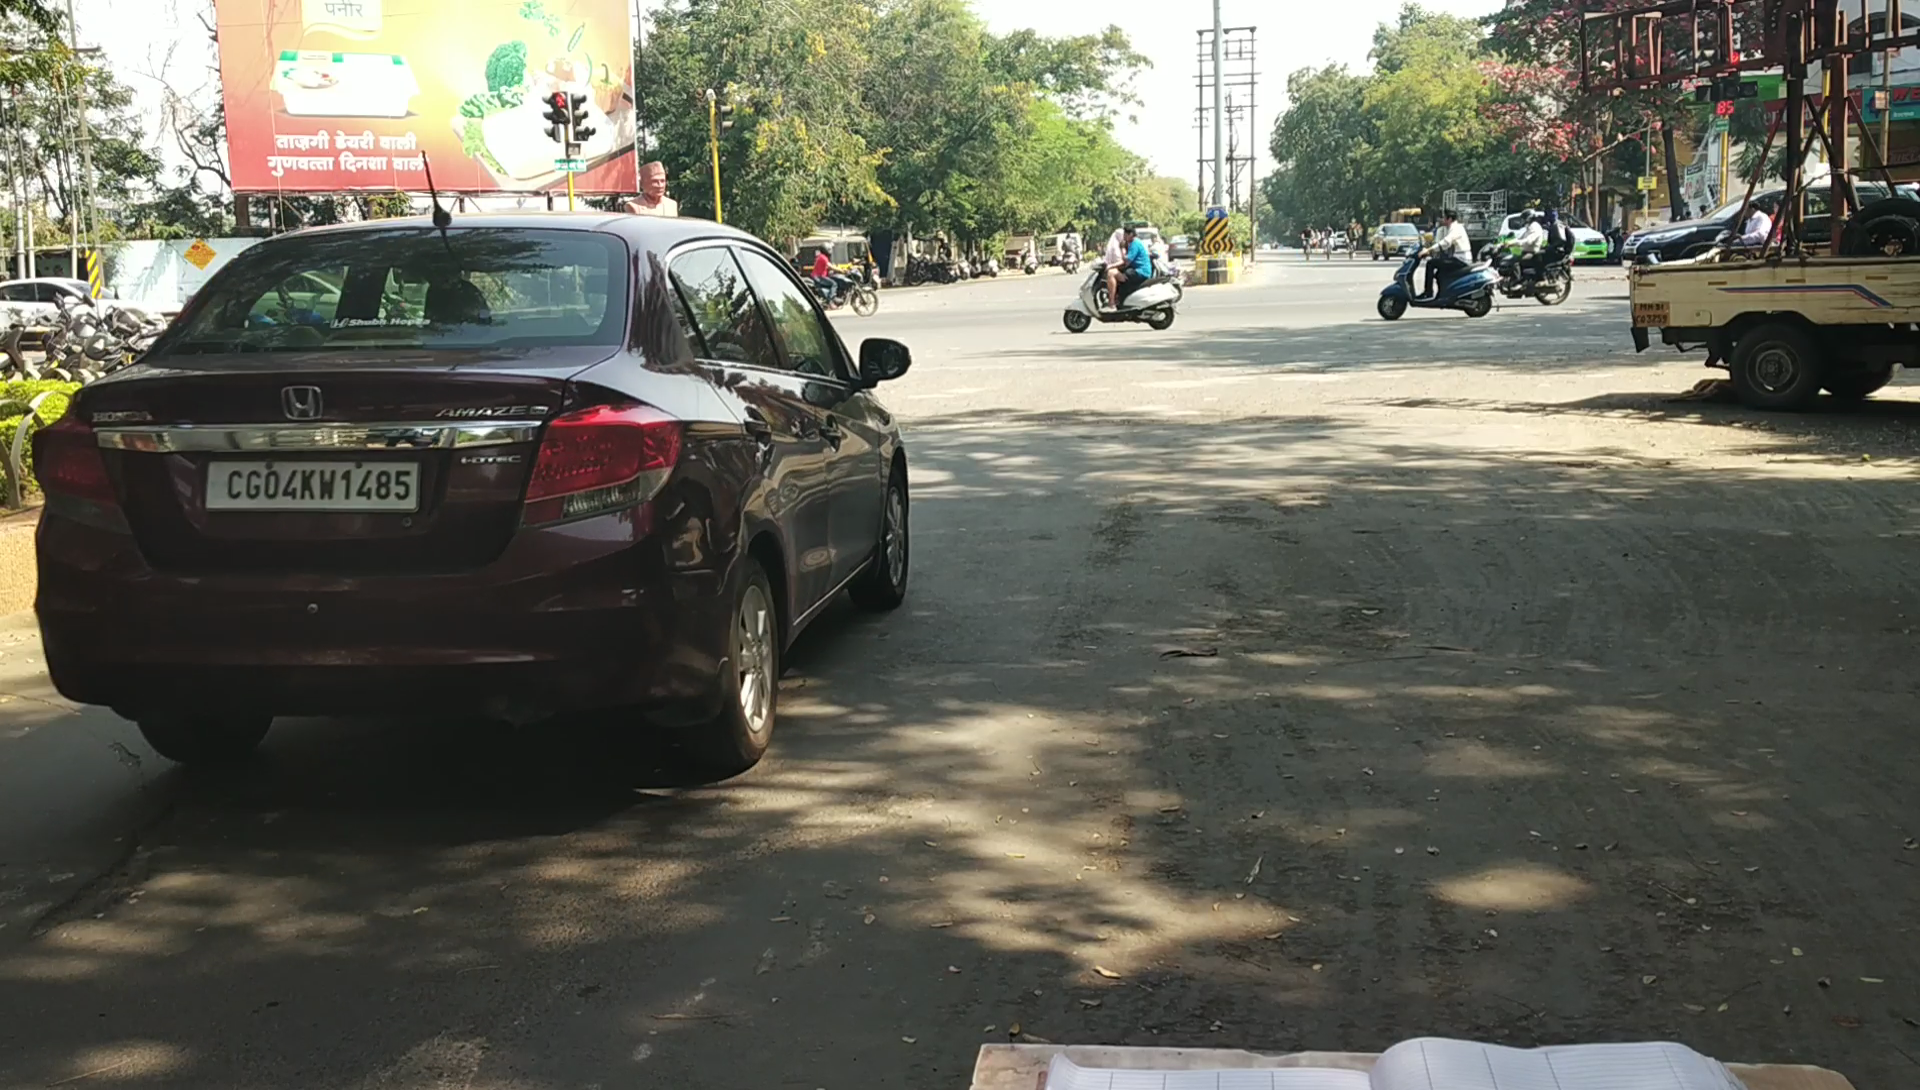car: (24, 200, 942, 772)
numplate: (196, 451, 431, 523)
